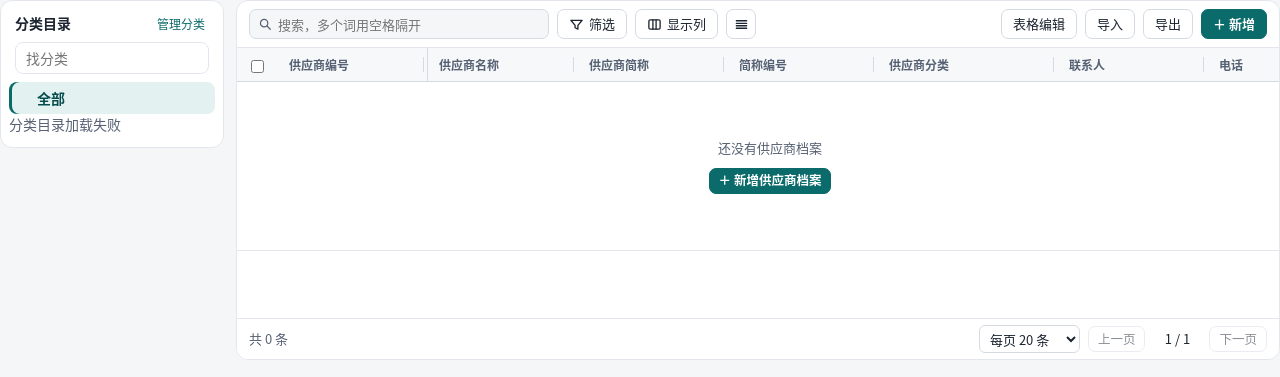
列表筛选：清除全部条件 › 没有条件时空表只说还没有；搜过之后给出提示和“清除全部条件”，点了恢复无条件查询
Expected: the text "还没有供应商档案" is shown, left=718, top=138, right=822, bottom=158
Type "不存在" into the search field labelled "搜索".
click(399, 24); type("不存在")  # box left=249, top=9, right=549, bottom=39
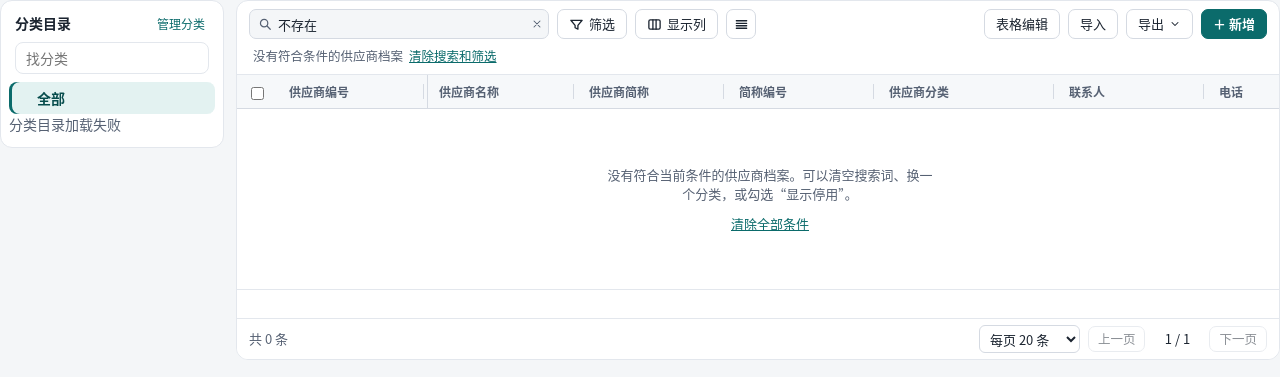
Now the text "没有符合当前条件的供应商档案。可以清空搜索词、换一个分类，或勾选“显示停用”。" is shown, box left=604, top=165, right=936, bottom=204
Click the button "清除搜索和筛选".
click(453, 56)  # box left=409, top=47, right=496, bottom=66
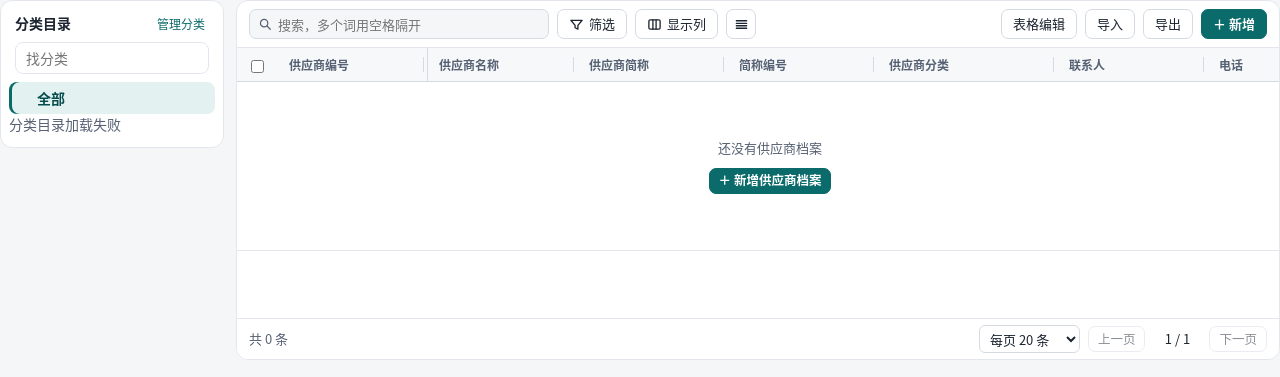
Now the search field labelled "搜索" is empty, box left=249, top=9, right=549, bottom=39
Now the text "还没有供应商档案" is shown, box left=718, top=138, right=822, bottom=158
